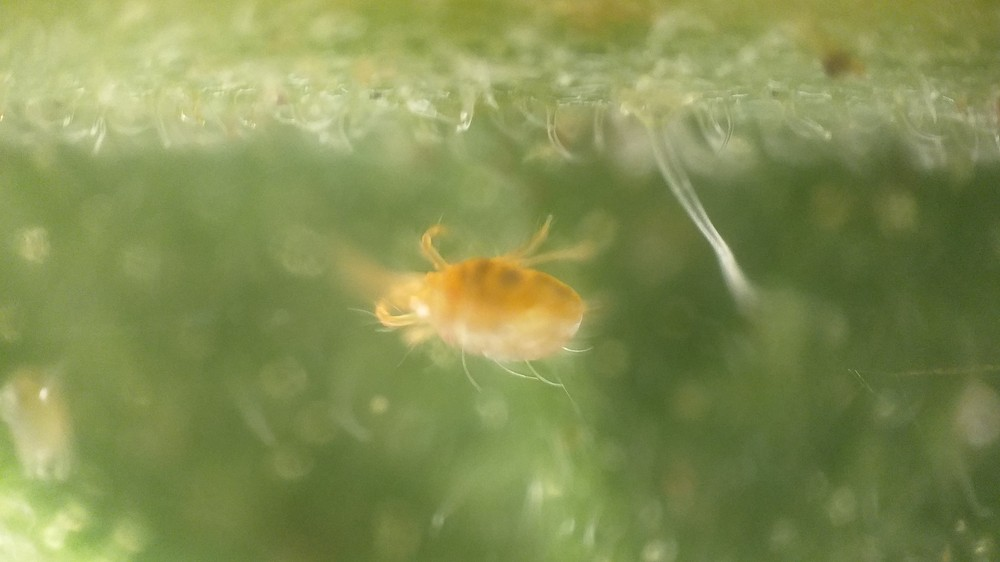Aracnido Rojo: (319, 200, 626, 403)
